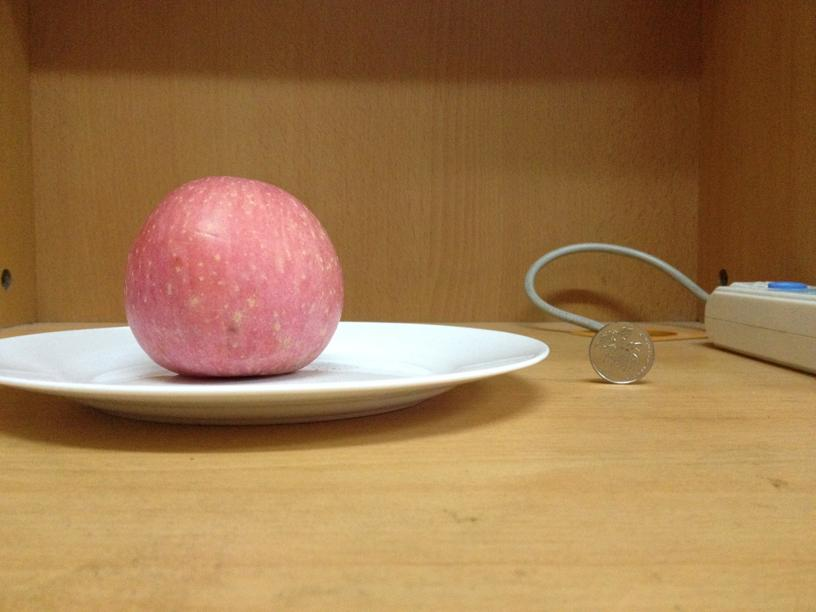apple: (119, 175, 346, 376)
coin: (586, 321, 655, 385)
